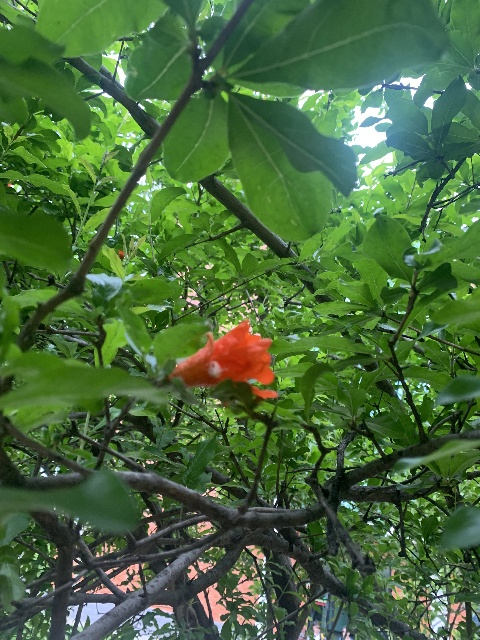flower: (168, 318, 276, 398)
